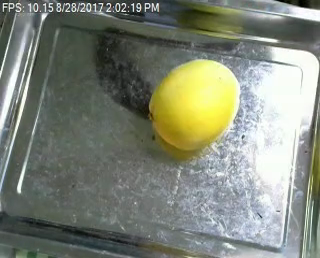Mango: (145, 58, 240, 151)
